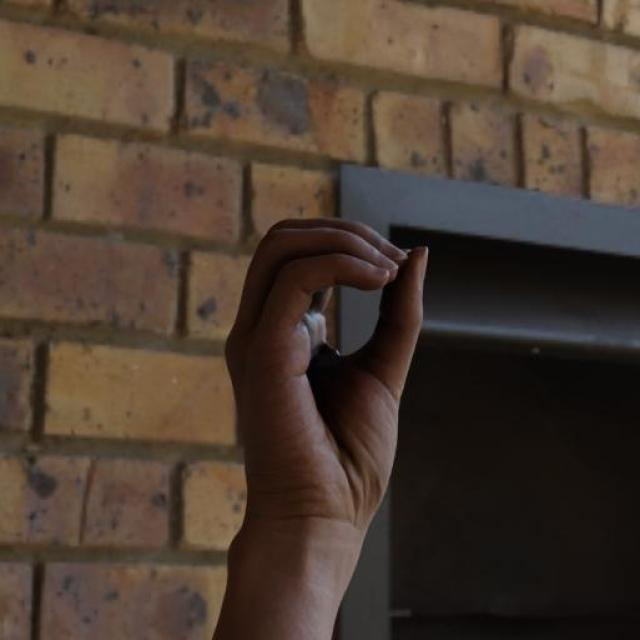O: (220, 214, 435, 524)
